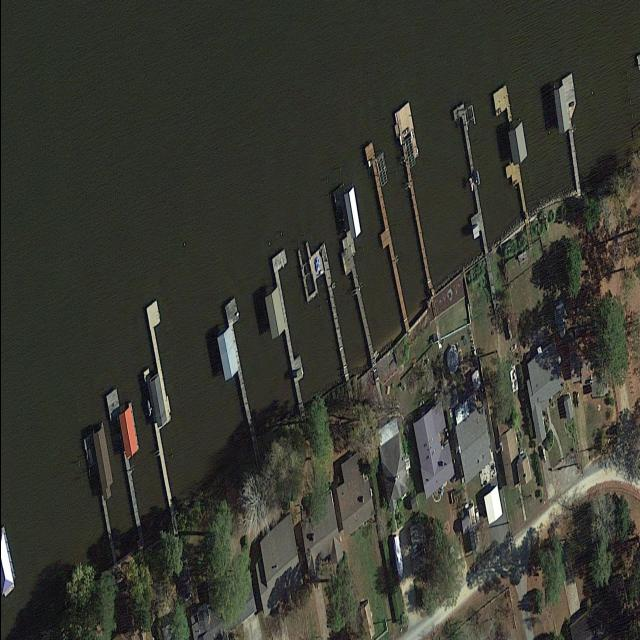ship: (390, 531, 404, 580)
